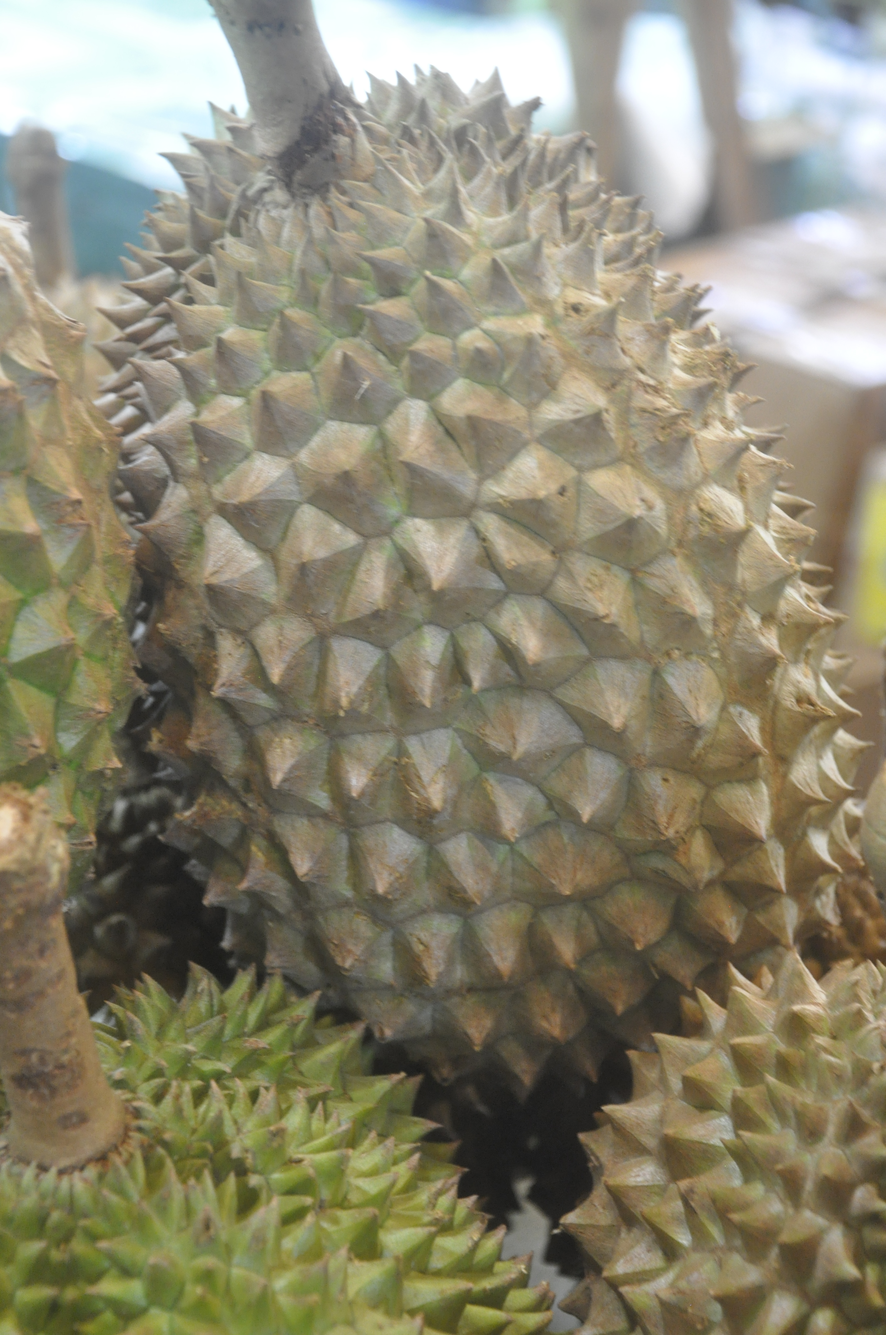mature: (62, 16, 855, 1151)
